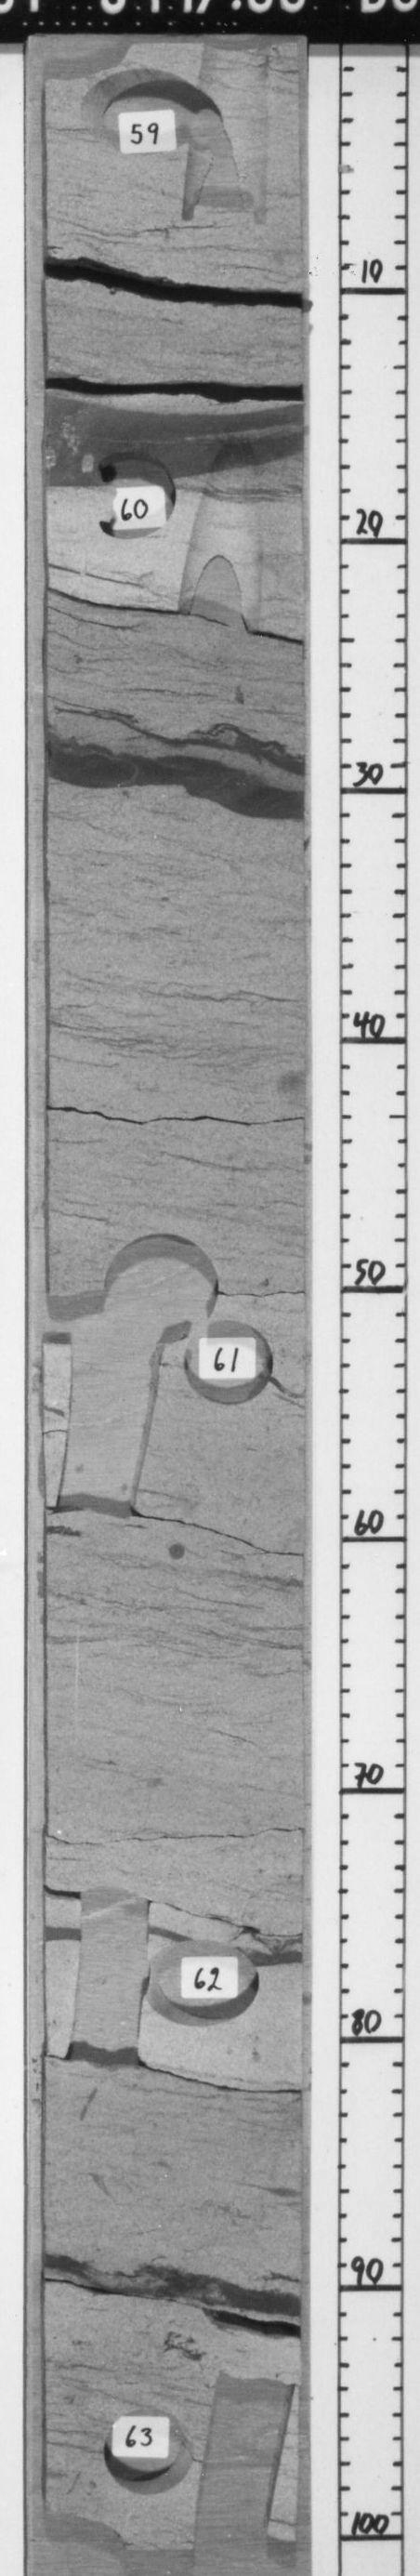hplug: (146, 1930, 276, 2044), (92, 2385, 199, 2507), (74, 59, 192, 164), (85, 432, 182, 552), (179, 1318, 279, 1416)
scal: (89, 1222, 230, 1321)
vplug: (174, 430, 279, 641), (52, 1345, 171, 1523), (192, 2351, 295, 2550), (57, 1873, 161, 2070), (184, 51, 287, 240)
